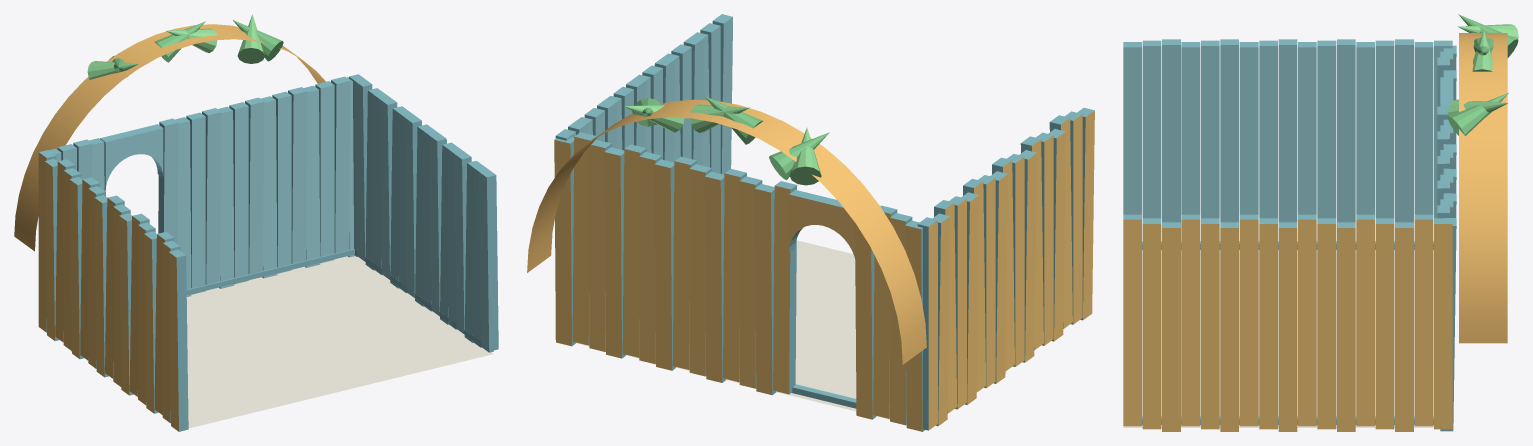
Rendered from room-shell-v2.glb.
3 renders of one model, left to right at view 1: azimuth 30°, elevation 25°; view 2: azimuth 150°, elevation 25°; view 3: azimuth 270°, elevation 25°, orthographic. The views are drawn at different scales.
Visible parts, largest first — view 1: floor_tile, roof_band, plank_left_0, plank_right_0, plank_back_11, plank_back_14, plank_back_17, plank_back_20, plank_back_19, plank_back_16, plank_back_13, plank_back_10 (+48 smaller); view 2: roof_band, floor_tile, plank_back_8, plank_back_12, plank_back_15, plank_back_18, plank_back_9, plank_back_17, plank_back_10, plank_back_14, plank_back_11, plank_back_13 (+42 smaller); view 3: roof_band, plank_right_3, plank_right_6, plank_right_15, plank_right_10, plank_right_1, plank_right_13, plank_right_8, plank_right_0, plank_right_9, plank_right_12, plank_right_4 (+31 smaller).
Part boxes in pixels (bbox=[...]): floor_tile: bbox=[186, 256, 493, 428]; roof_band: bbox=[14, 24, 325, 251]; plank_left_0: bbox=[168, 249, 188, 431]; plank_right_0: bbox=[479, 169, 498, 351]; plank_back_11: bbox=[202, 108, 221, 284]; plank_back_14: bbox=[245, 97, 264, 274]; plank_back_17: bbox=[288, 87, 307, 263]; plank_back_20: bbox=[331, 76, 350, 253]; plank_back_19: bbox=[315, 81, 334, 262]; plank_back_16: bbox=[272, 91, 291, 273]; plank_back_13: bbox=[229, 102, 248, 283]; plank_back_10: bbox=[186, 112, 205, 294]; roof_band: bbox=[527, 99, 926, 364]; floor_tile: bbox=[576, 240, 889, 419]; plank_back_8: bbox=[773, 181, 797, 394]; plank_back_12: bbox=[704, 171, 725, 382]; plank_back_15: bbox=[654, 159, 675, 370]; plank_back_18: bbox=[604, 147, 625, 358]; plank_back_9: bbox=[754, 184, 776, 395]; plank_back_17: bbox=[622, 144, 646, 357]; plank_back_10: bbox=[739, 176, 762, 388]; plank_back_14: bbox=[672, 156, 696, 369]; plank_back_11: bbox=[723, 169, 746, 382]; plank_back_13: bbox=[689, 164, 711, 376]; roof_band: bbox=[1459, 33, 1507, 343]; plank_right_3: bbox=[1181, 214, 1200, 426]; plank_right_6: bbox=[1239, 214, 1258, 426]; plank_right_15: bbox=[1414, 214, 1433, 426]; plank_right_10: bbox=[1317, 218, 1336, 429]; plank_right_1: bbox=[1142, 218, 1161, 429]; plank_right_13: bbox=[1375, 218, 1394, 429]; plank_right_8: bbox=[1278, 222, 1297, 431]; plank_right_0: bbox=[1123, 214, 1141, 426]; plank_right_9: bbox=[1298, 214, 1316, 426]; plank_right_12: bbox=[1356, 214, 1374, 426]; plank_right_4: bbox=[1201, 218, 1219, 429].
Bounding box in the file's own units: 5.44 × 4.08 × 4.89.
